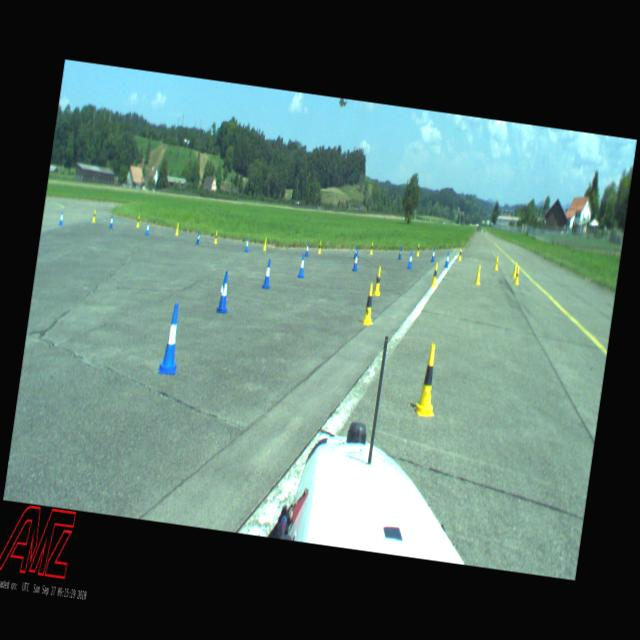blue_cone: (159, 302, 185, 375), (216, 270, 232, 314), (262, 258, 273, 288), (297, 254, 306, 278), (352, 251, 360, 271), (408, 250, 414, 268), (444, 252, 450, 268), (304, 242, 310, 256), (245, 236, 250, 252), (59, 210, 64, 226), (398, 246, 403, 260), (431, 248, 436, 262), (353, 245, 358, 259), (196, 231, 201, 244), (109, 216, 114, 228), (146, 221, 150, 235)
yellow_cone: (414, 342, 444, 418), (361, 283, 378, 326), (373, 266, 384, 296), (474, 264, 484, 286), (431, 262, 439, 286), (514, 264, 522, 286), (512, 260, 518, 278), (494, 255, 500, 271), (214, 231, 219, 244), (136, 215, 141, 228), (458, 248, 463, 261), (416, 243, 421, 256), (175, 223, 180, 236), (92, 210, 97, 222), (318, 242, 323, 254), (263, 238, 268, 250), (370, 242, 374, 254)
